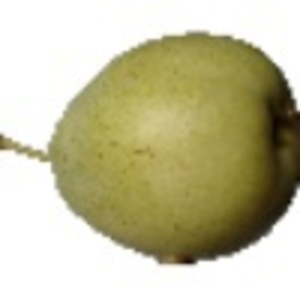pera: (1, 26, 300, 269)
